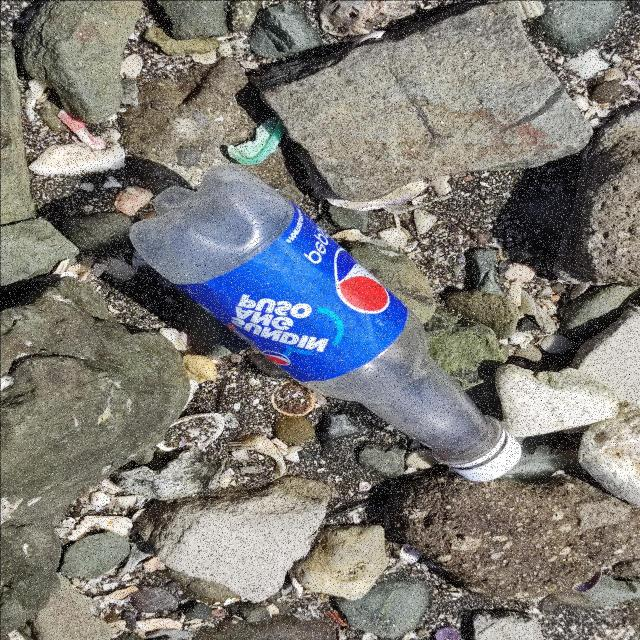plastic_waste: (127, 165, 519, 483)
